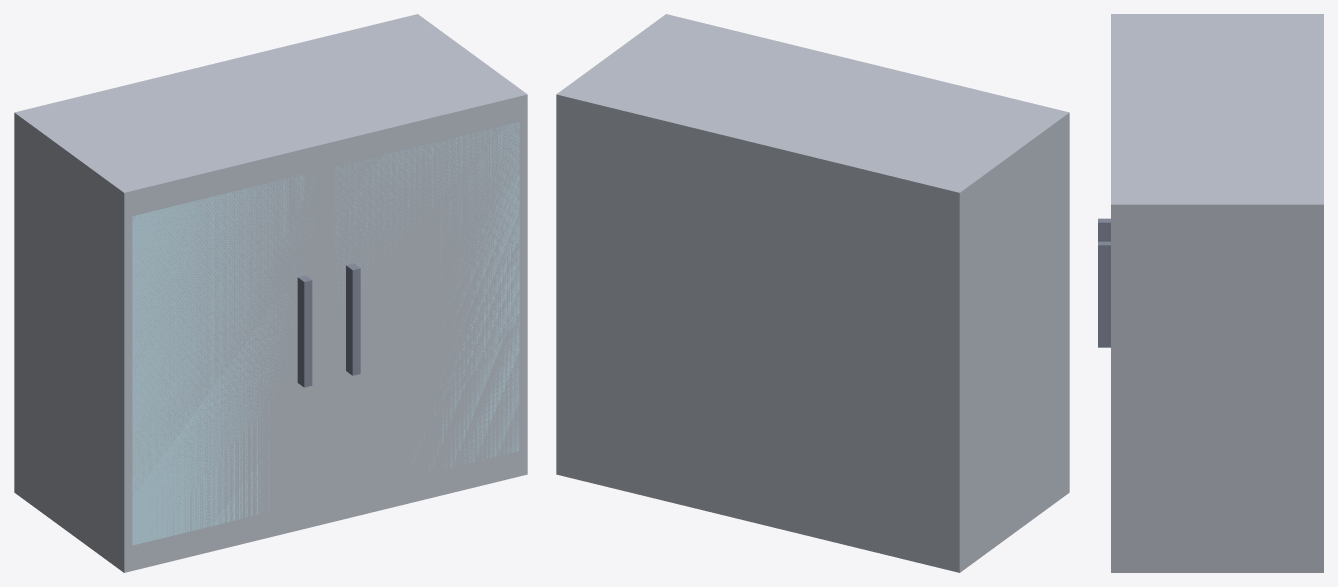
The model's file is freezers-standing.glb.
The picture shows the model from 3 angles, left to right: view 1: azimuth 30°, elevation 25°; view 2: azimuth 150°, elevation 25°; view 3: azimuth 270°, elevation 25°; orthographic projection. The views are drawn at different scales.
Parts seen in each view (by area): view 1: freezers-standing; view 2: freezers-standing; view 3: freezers-standing.
Part boxes in pixels (x1,y1,x2,y2): freezers-standing: (14, 14, 527, 572); freezers-standing: (556, 14, 1069, 572); freezers-standing: (1098, 14, 1323, 572).
Size of the model in its own units: 1 by 0.9 by 0.5.
Materials: 1 (1 with a texture image).
